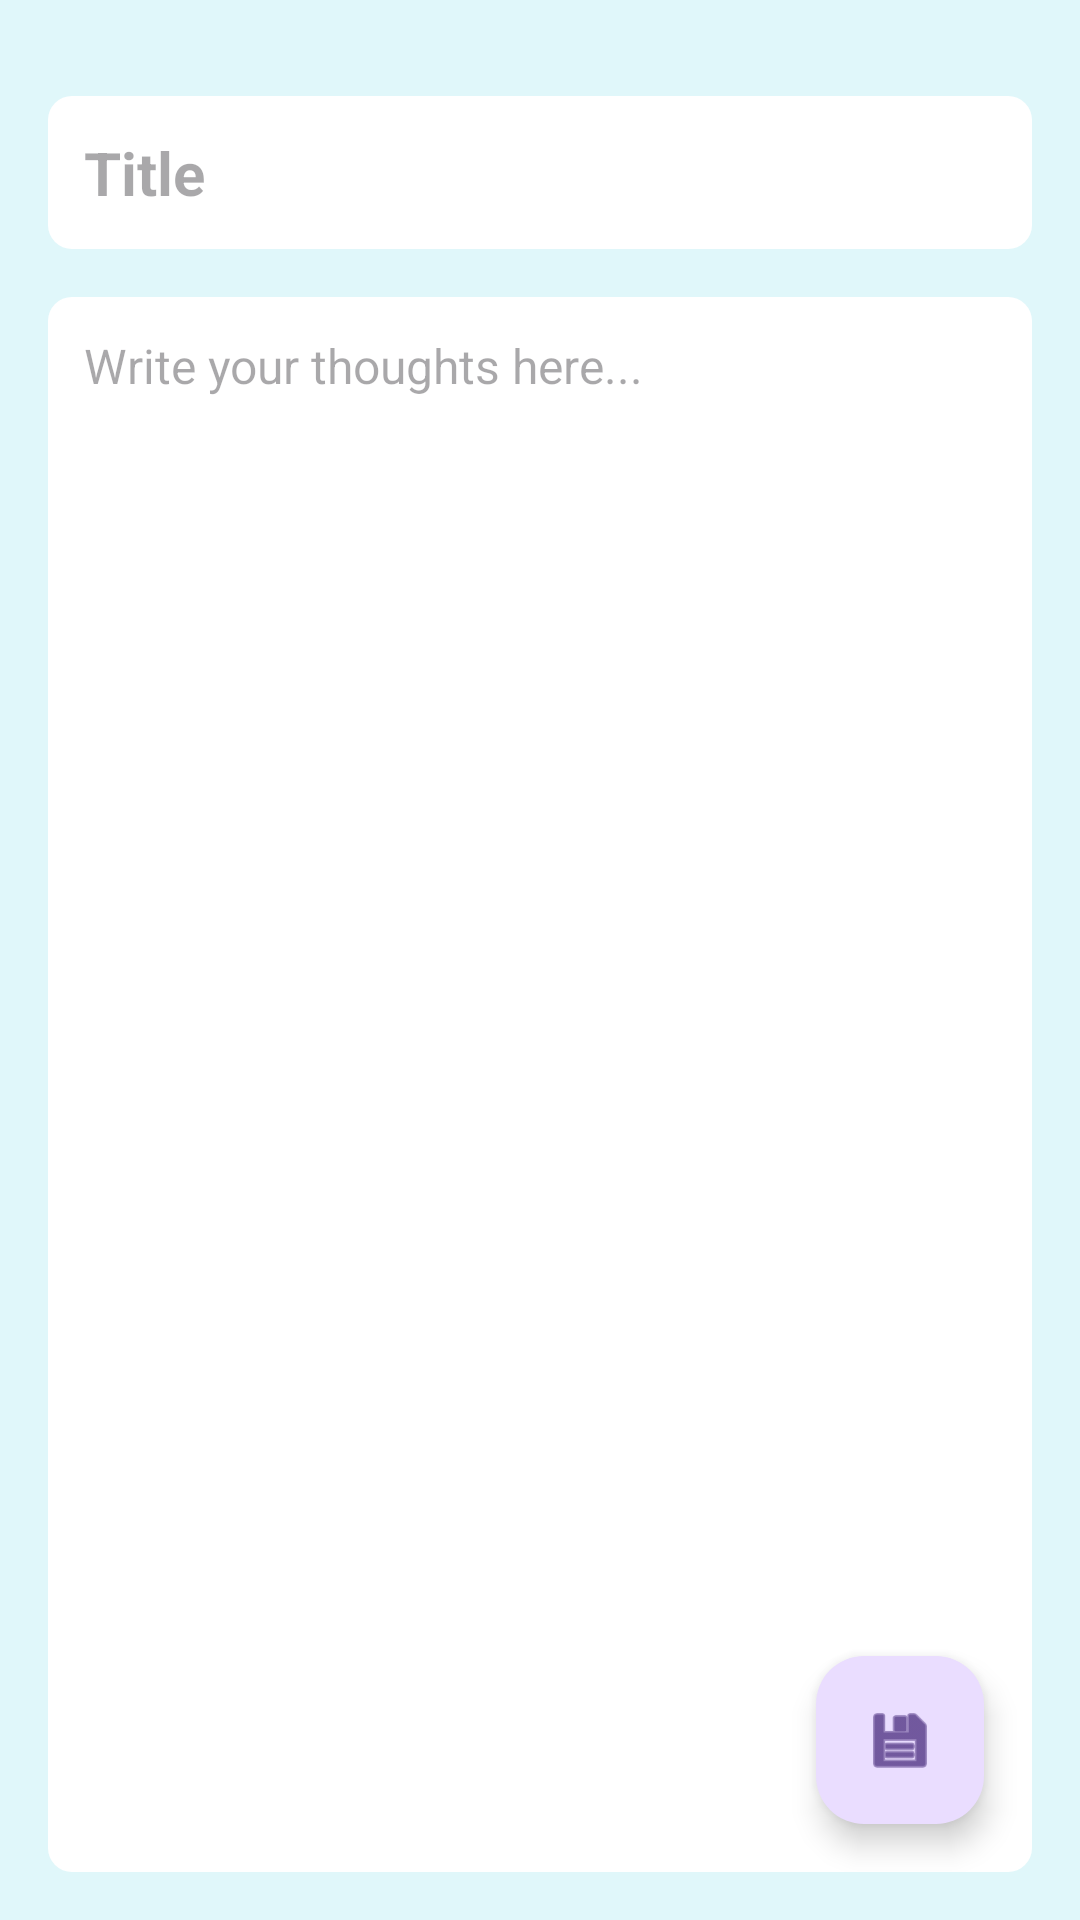

Icons on this 1080*1920 Android screen, each with its box as (x1, y1, x2, y2):
save: (816, 1656, 984, 1824)
